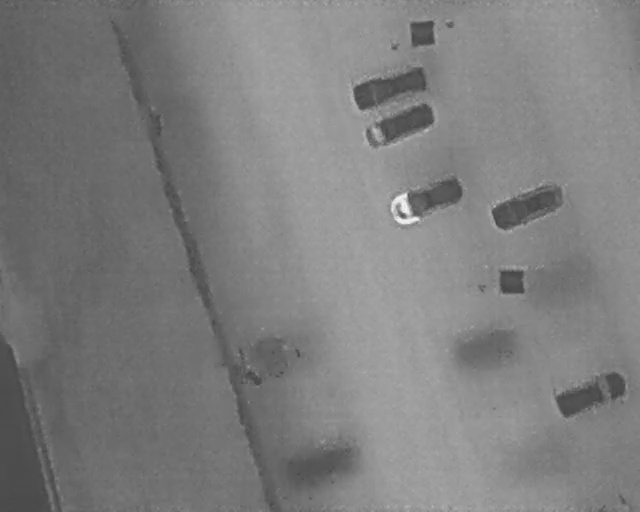Car: (385, 169, 468, 229), (486, 176, 568, 236), (552, 365, 631, 422), (349, 60, 432, 114), (362, 100, 438, 151)
